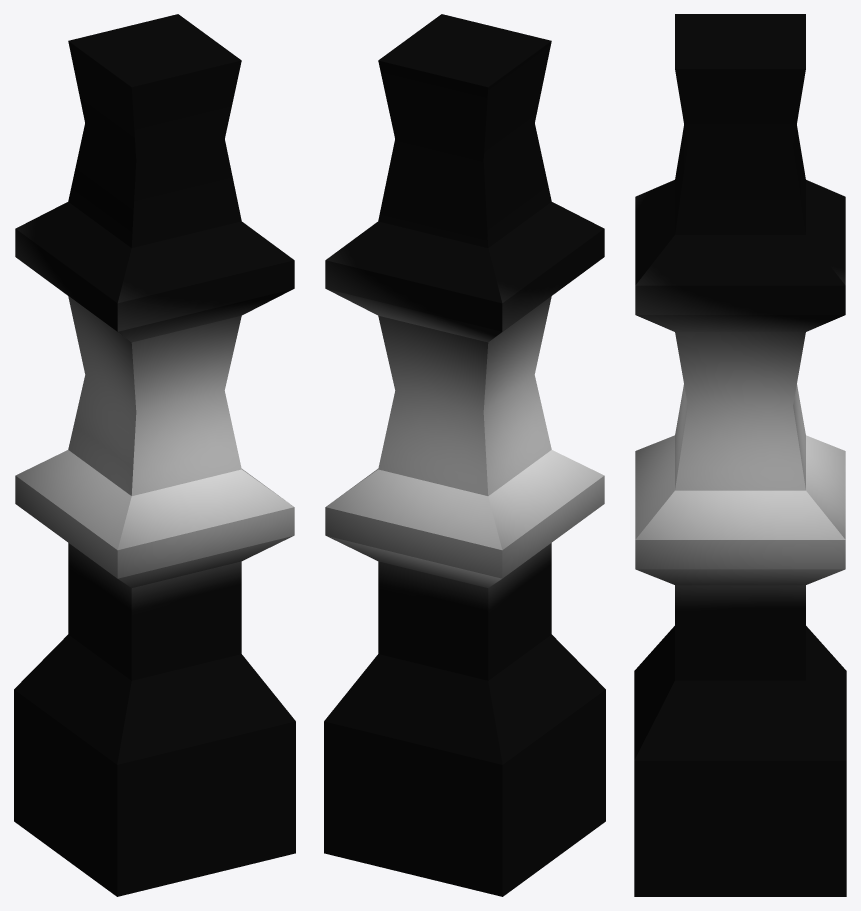
The model's file is StoneBit.fbx.
3 views of the same model, side by side, from view 1: azimuth 30°, elevation 25°; view 2: azimuth 150°, elevation 25°; view 3: azimuth 270°, elevation 25° (orthographic). The views are drawn at different scales.
Parts seen in each view (by area): view 1: StoneBit; view 2: StoneBit; view 3: StoneBit.
Boxes of the visible parts, box(x1,y1,x2,y2) form: StoneBit: box(14, 14, 295, 896); StoneBit: box(324, 14, 605, 896); StoneBit: box(634, 14, 846, 896).
Bounding box in the file's own units: 0.3501 × 1.47 × 0.3501.
